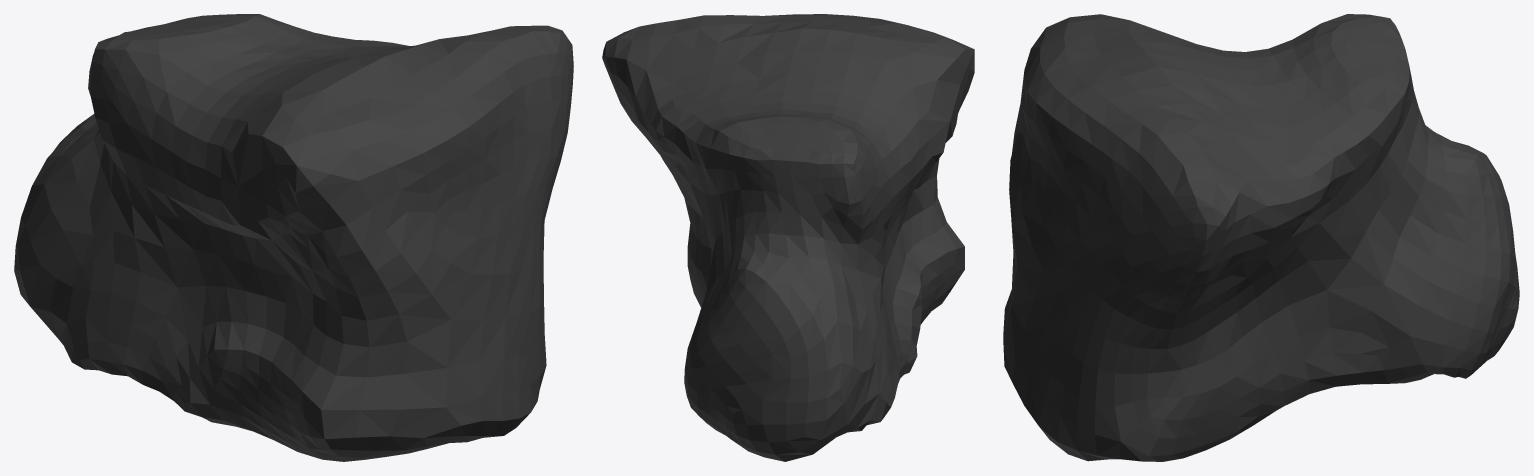
File: Intermediate_carpal.glb
The picture shows the model from 3 angles, left to right: view 1: azimuth 30°, elevation 25°; view 2: azimuth 150°, elevation 25°; view 3: azimuth 270°, elevation 25°; orthographic projection. The views are drawn at different scales.
Visible parts, largest first — view 1: Intermediate_carpal; view 2: Intermediate_carpal; view 3: Intermediate_carpal.
Boxes of the visible parts, <box> form: Intermediate_carpal: <box>14,14,573,461</box>; Intermediate_carpal: <box>602,14,974,461</box>; Intermediate_carpal: <box>1003,14,1519,461</box>.
Size of the model in its own units: 37.96 by 32.36 by 41.61.
1 material, 1 textured.
